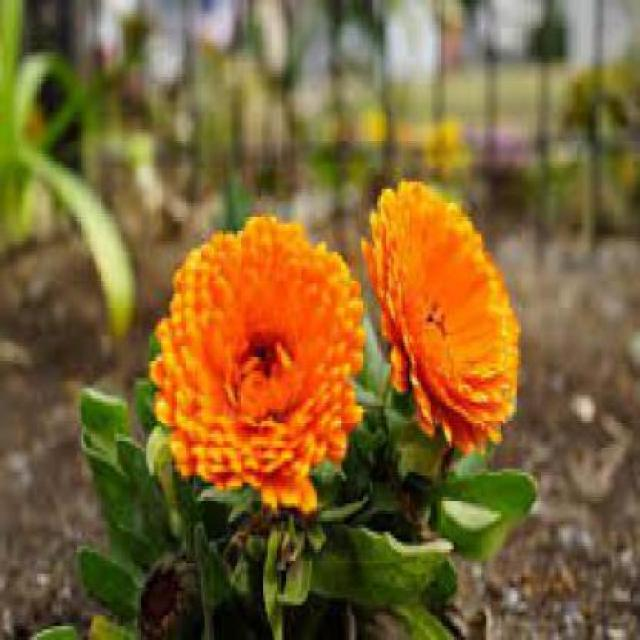Flower: (148, 213, 370, 518), (359, 179, 522, 459)
